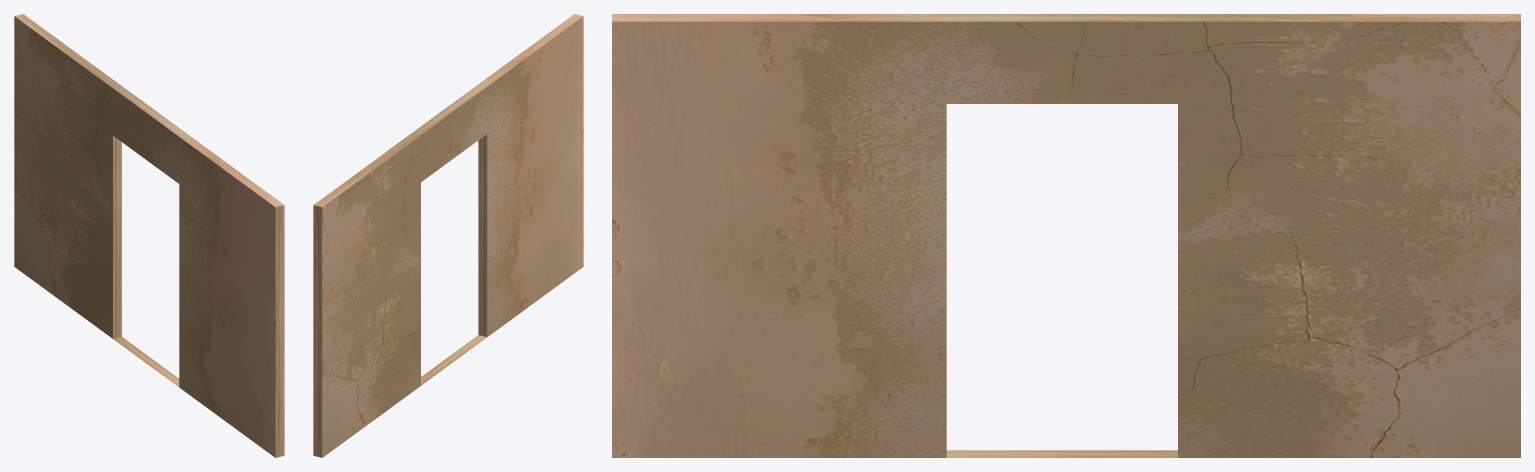
The model's file is Wall.fbx.
3 renders of one model, left to right at view 1: azimuth 30°, elevation 25°; view 2: azimuth 150°, elevation 25°; view 3: azimuth 270°, elevation 25°, orthographic. The views are drawn at different scales.
Parts seen in each view (by area): view 1: Cube.012; view 2: Cube.012; view 3: Cube.012.
Boxes of the visible parts, <box> form: Cube.012: <box>14,14,284,457</box>; Cube.012: <box>313,14,583,457</box>; Cube.012: <box>612,14,1520,457</box>.
Bounding box in the file's own units: 675 × 358 × 13.48.
Materials: 1 (1 with a texture image).
